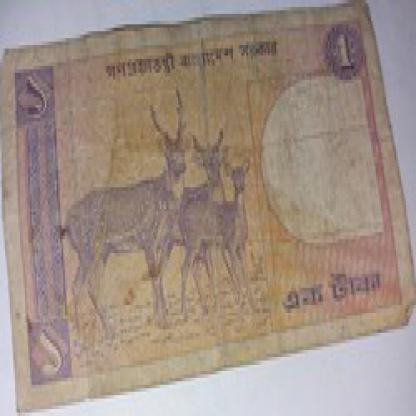One Taka: (276, 267, 384, 315), (30, 322, 70, 382), (15, 70, 53, 122), (333, 27, 358, 80)
